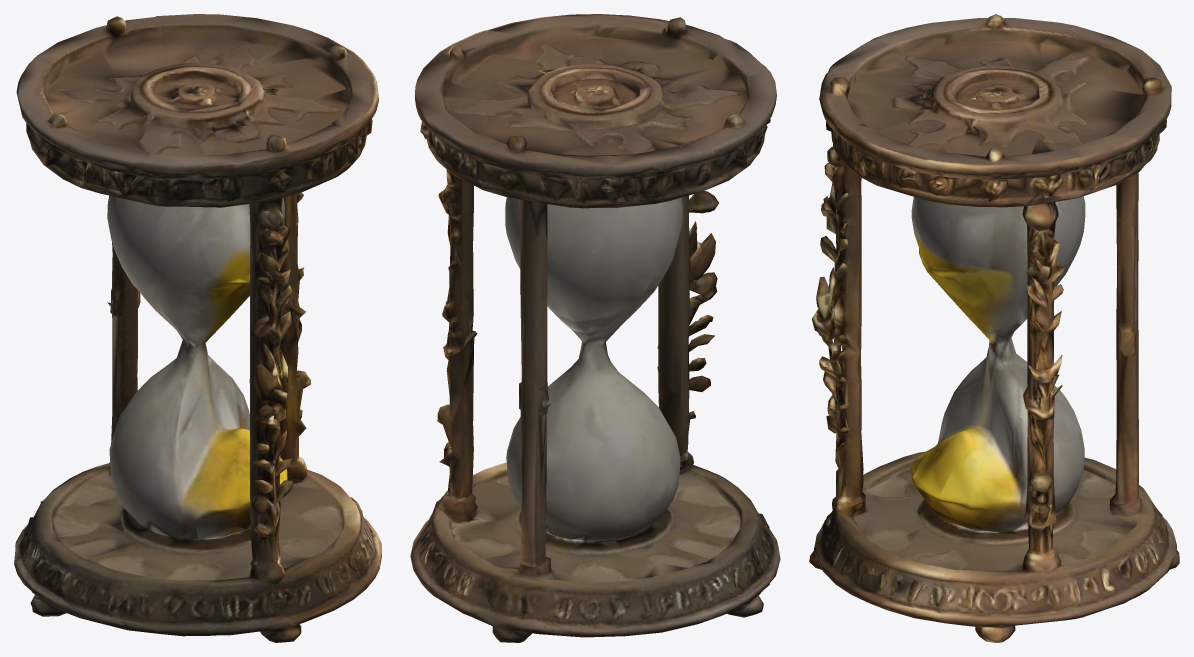
Rendered from end-turn-hourglass.glb.
3 views of the same model, side by side, from view 1: azimuth 30°, elevation 25°; view 2: azimuth 150°, elevation 25°; view 3: azimuth 270°, elevation 25° (orthographic). The views are drawn at different scales.
Visible parts, largest first — view 1: tripo_node_314836fb-fb24-4d70-8676-0ced616c1d8f; view 2: tripo_node_314836fb-fb24-4d70-8676-0ced616c1d8f; view 3: tripo_node_314836fb-fb24-4d70-8676-0ced616c1d8f.
Part boxes in pixels (x1,y1,x2,y2): tripo_node_314836fb-fb24-4d70-8676-0ced616c1d8f: (14, 14, 381, 642); tripo_node_314836fb-fb24-4d70-8676-0ced616c1d8f: (410, 14, 780, 642); tripo_node_314836fb-fb24-4d70-8676-0ced616c1d8f: (809, 14, 1179, 642).
Size of the model in its own units: 0.6959 by 0.9989 by 0.6881.
1 material, 1 textured.
